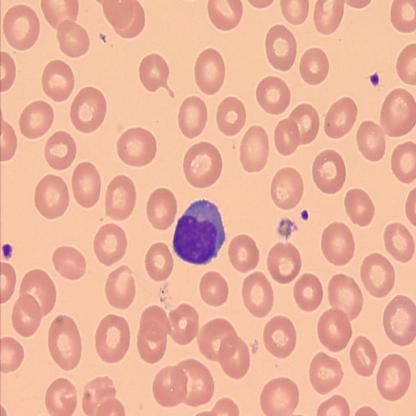Atypical lymphocyte: (172, 200, 226, 265)
